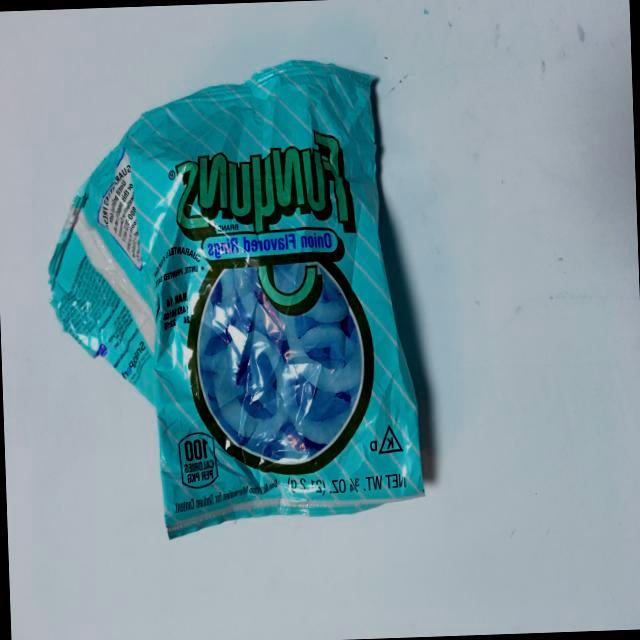plastic: (44, 53, 458, 556)
